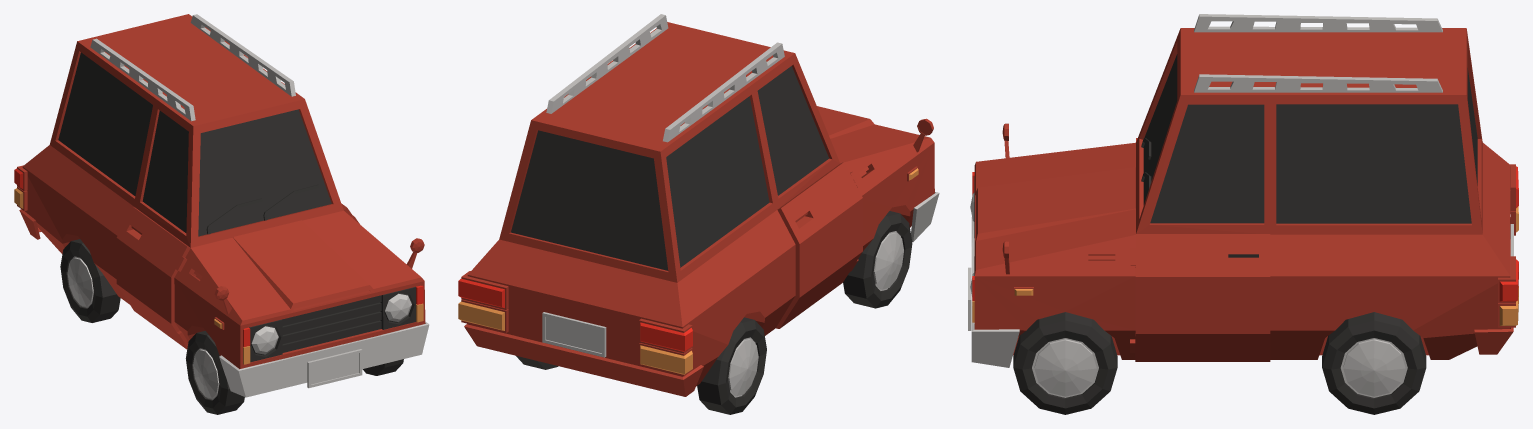
Rendered from Car 1.glb.
3 renders of one model, left to right at view 1: azimuth 30°, elevation 25°; view 2: azimuth 150°, elevation 25°; view 3: azimuth 270°, elevation 25°, orthographic. The views are drawn at different scales.
Parts seen in each view (by area): view 1: Car.002; view 2: Car.002; view 3: Car.002.
Boxes of the visible parts, <box> form: Car.002: <box>14,14,429,414</box>; Car.002: <box>458,14,939,414</box>; Car.002: <box>968,14,1518,414</box>.
Size of the model in its own units: 1.2 by 1.41 by 2.23.
